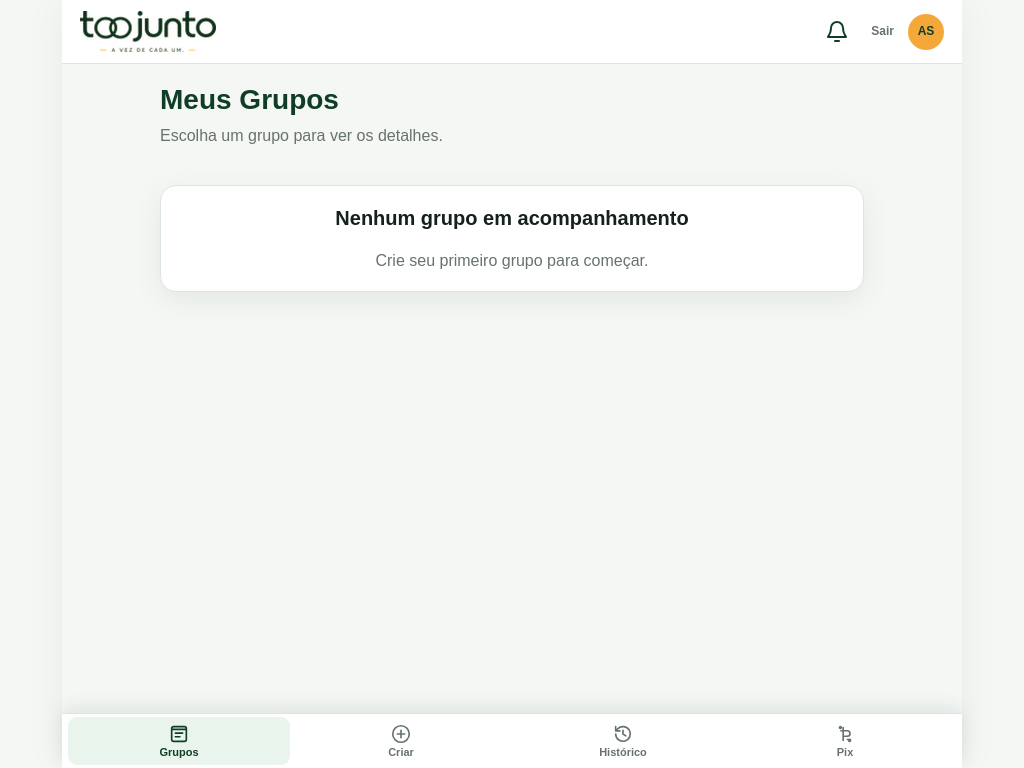
Test case: interface mínima de notificações › oculta badge quando contador é zero e apresenta estado vazio
expect the heading "Meus Grupos" is shown: met, box x1=160 y1=84 x2=339 y2=115
What coordinates should you click on to do the following:
click the button named "Notificações"
I would click on:
 (837, 32)
Its box is x1=817 y1=12 x2=857 y2=52.
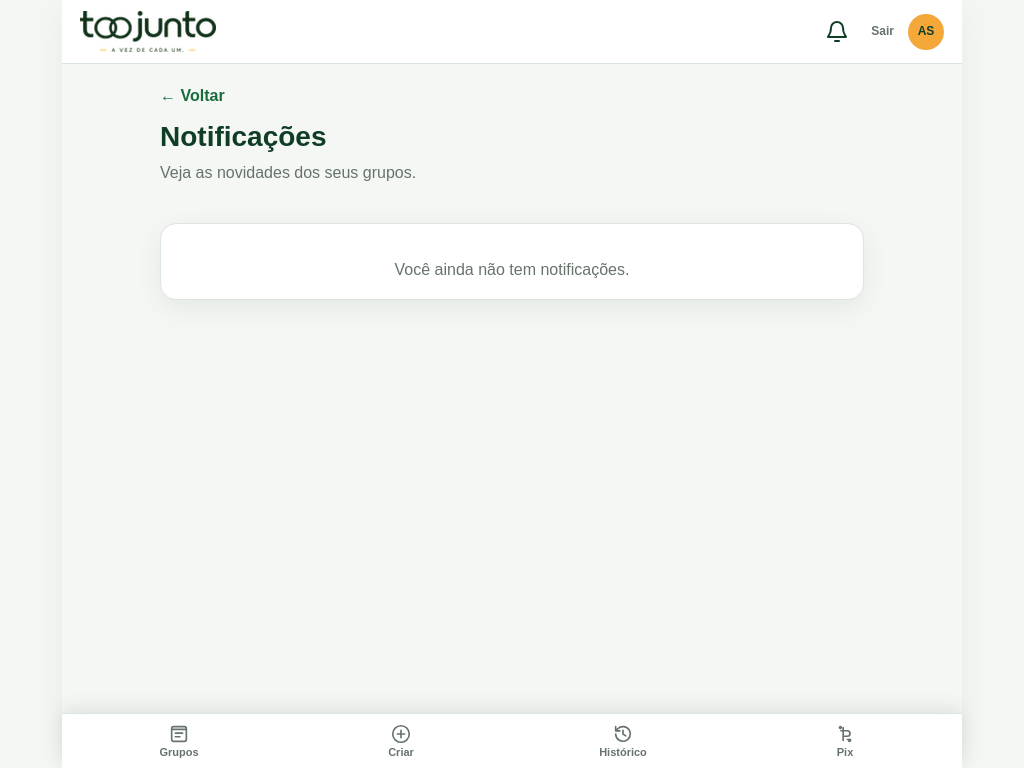
expect the text "Você ainda não tem notificações." is shown: met, box x1=395 y1=261 x2=629 y2=278
